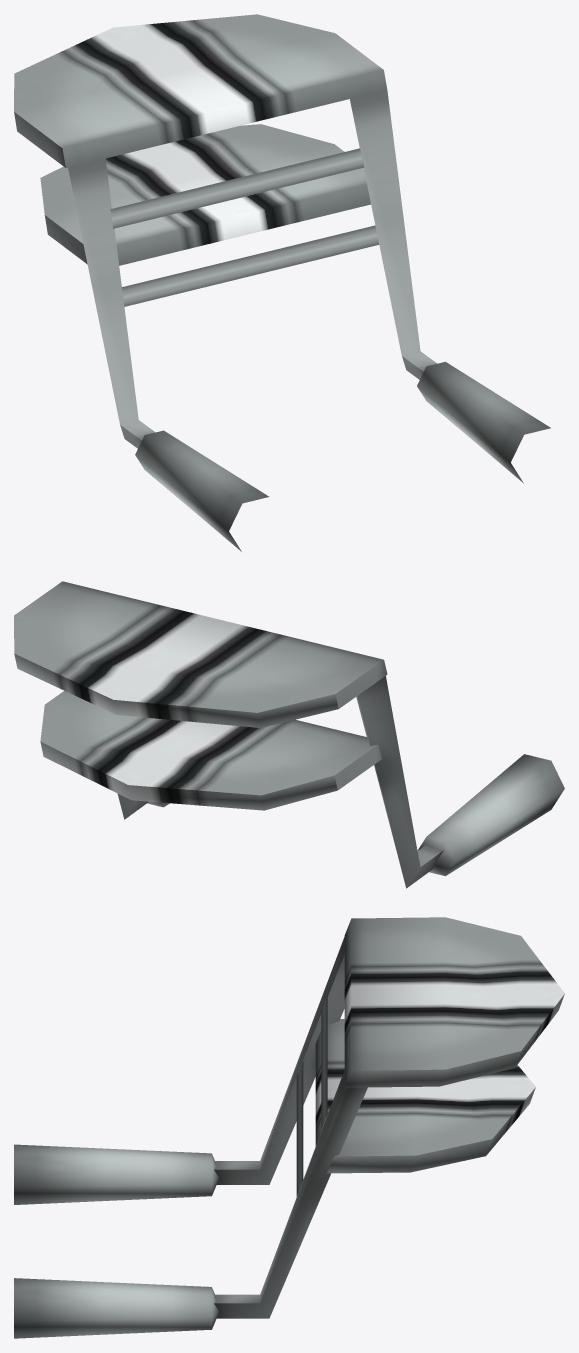
Rendered from acc_15.glb.
3 views of the same model, one above another, from view 1: azimuth 30°, elevation 25°; view 2: azimuth 150°, elevation 25°; view 3: azimuth 270°, elevation 25° (orthographic). The views are drawn at different scales.
Parts seen in each view (by area): view 1: vertex; view 2: vertex; view 3: vertex.
Boxes of the visible parts, x1,y1,x2,y2 form: vertex: [14, 14, 550, 551]; vertex: [14, 581, 564, 888]; vertex: [14, 917, 564, 1338].
Size of the model in its own units: 0.8129 by 0.6472 by 1.19.
Materials: 1 (1 with a texture image).
